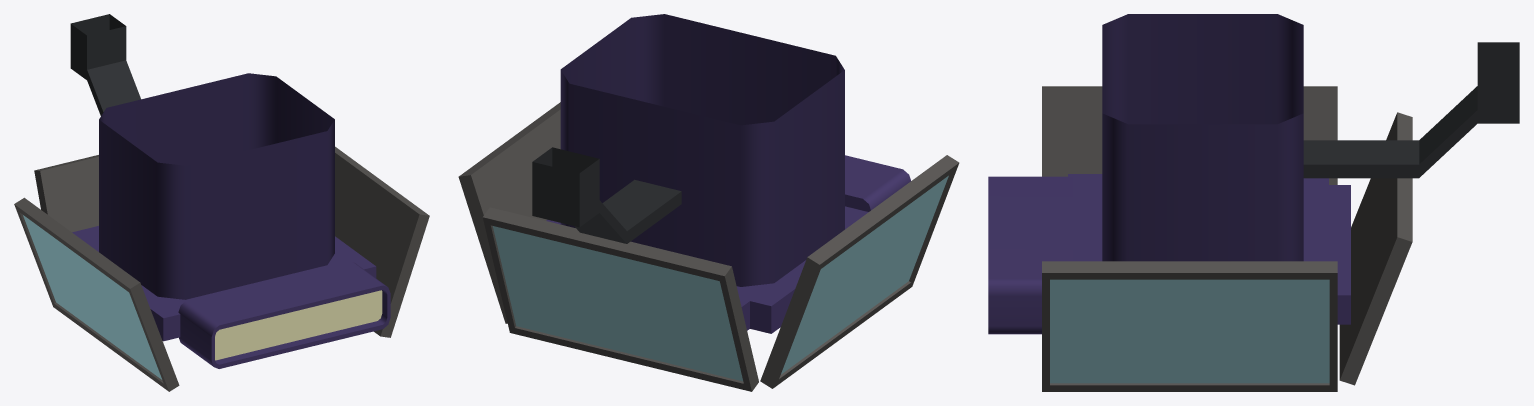
Rendered from SM_GameArea_Screen_03.fbx.
3 renders of one model, left to right at view 1: azimuth 30°, elevation 25°; view 2: azimuth 150°, elevation 25°; view 3: azimuth 270°, elevation 25°, orthographic. The views are drawn at different scales.
Parts seen in each view (by area): view 1: SM_GameArea_Screen_03; view 2: SM_GameArea_Screen_03; view 3: SM_GameArea_Screen_03.
Part boxes in pixels (x1,y1,x2,y2): SM_GameArea_Screen_03: (14, 14, 429, 391); SM_GameArea_Screen_03: (458, 14, 959, 391); SM_GameArea_Screen_03: (988, 14, 1519, 391).
Size of the model in its own units: 16.76 by 11.2 by 20.19.
3 materials, 1 textured.
